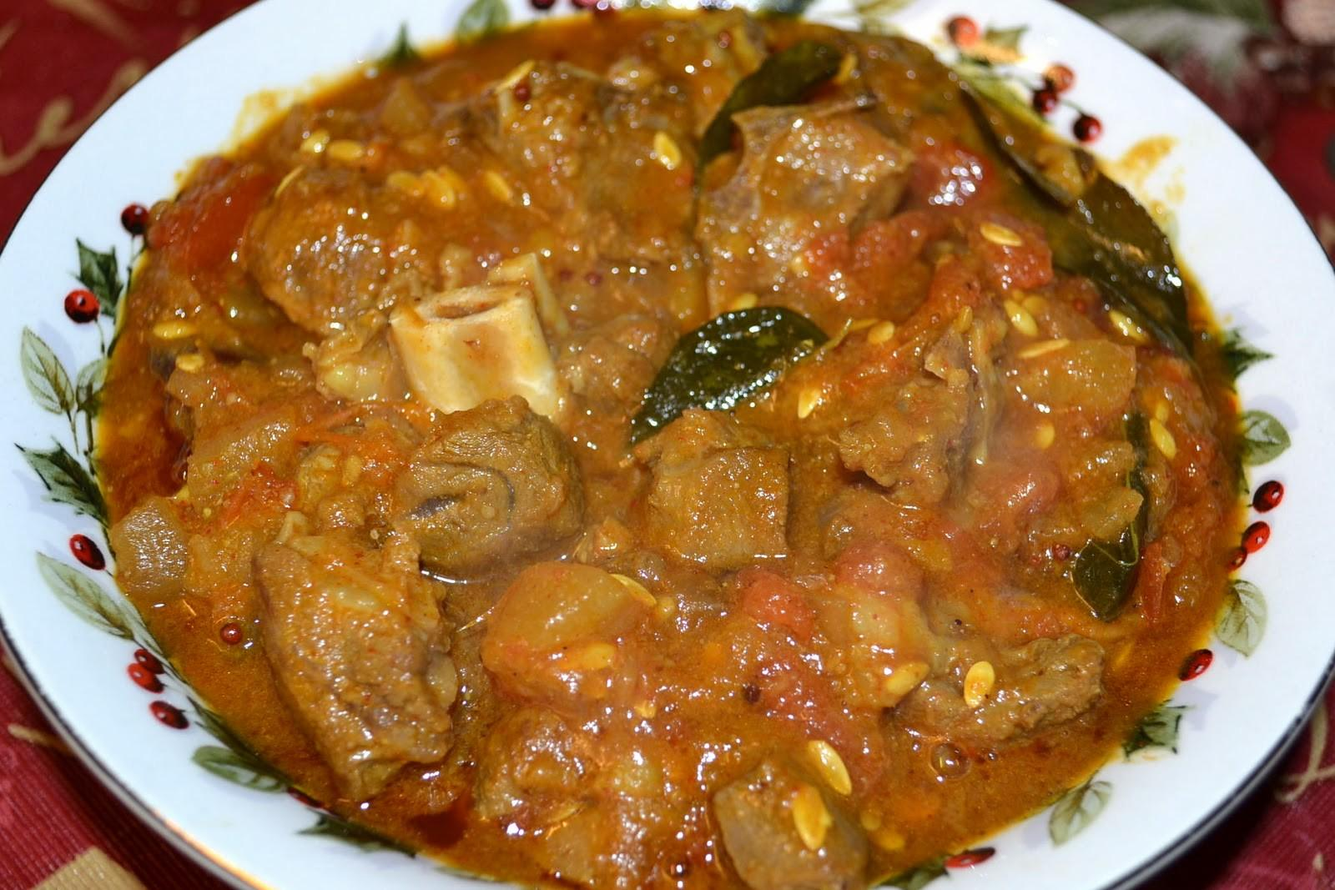MuttonCurry: (105, 5, 1242, 890)
